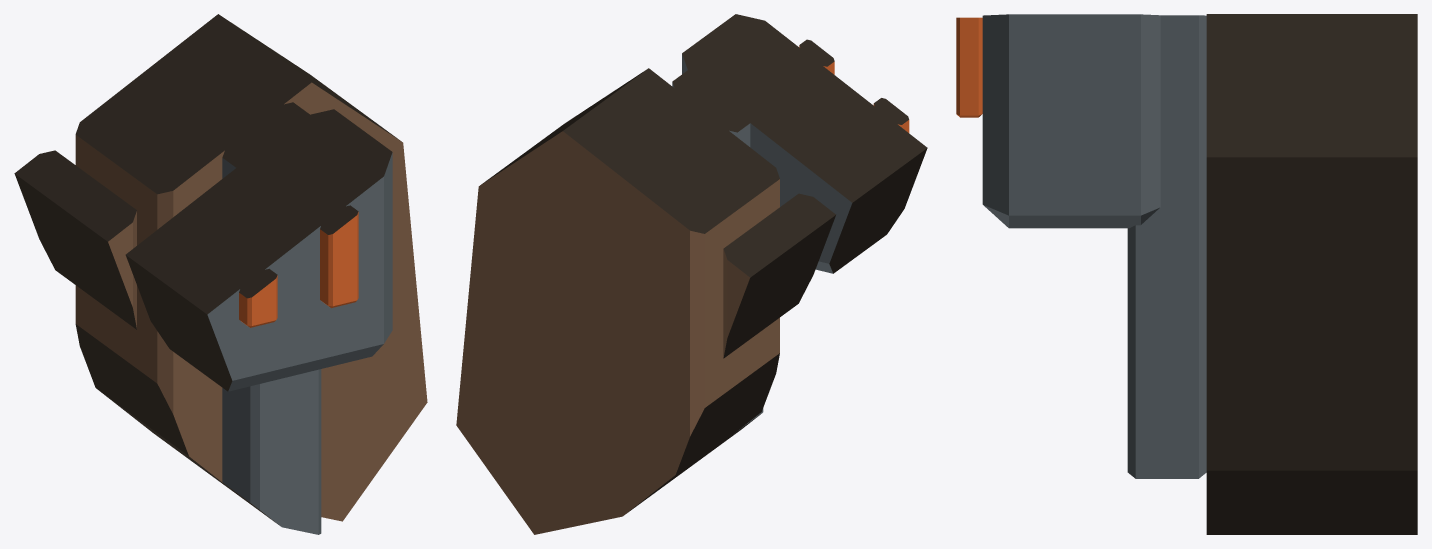
The model's file is SM_DoorShard_03_03.fbx.
3 views of the same model, side by side, from view 1: azimuth 30°, elevation 25°; view 2: azimuth 150°, elevation 25°; view 3: azimuth 270°, elevation 25° (orthographic). The views are drawn at different scales.
Parts seen in each view (by area): view 1: SM_DoorShard_03_03; view 2: SM_DoorShard_03_03; view 3: SM_DoorShard_03_03.
Part boxes in pixels (x1,y1,x2,y2): SM_DoorShard_03_03: [14, 14, 427, 534]; SM_DoorShard_03_03: [456, 14, 927, 534]; SM_DoorShard_03_03: [956, 14, 1417, 534].
Bounding box in the file's own units: 31.56 × 35 × 42.16.
